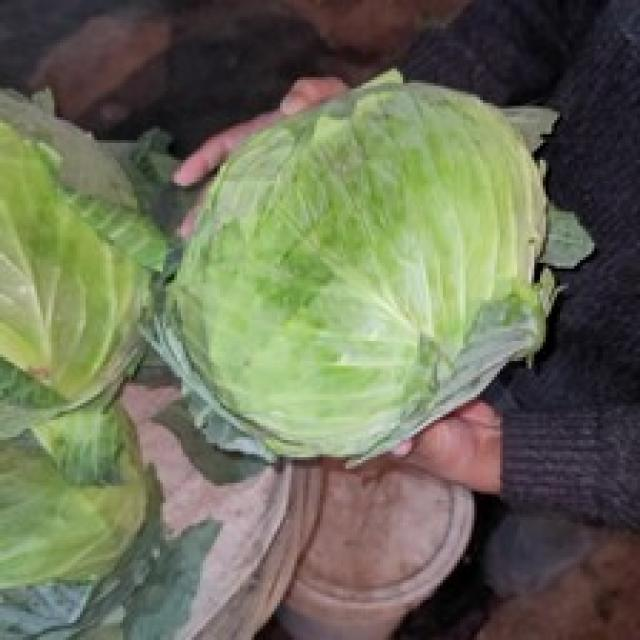Cabbage: (152, 63, 572, 468)
